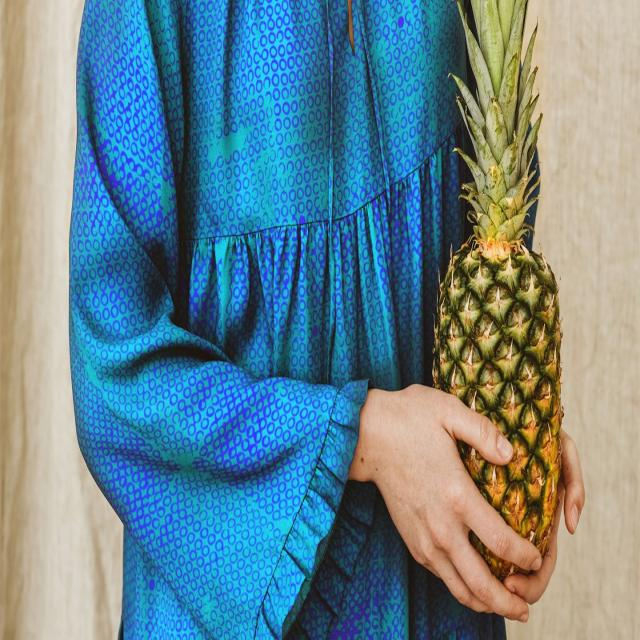pineapple: (438, 6, 562, 587)
